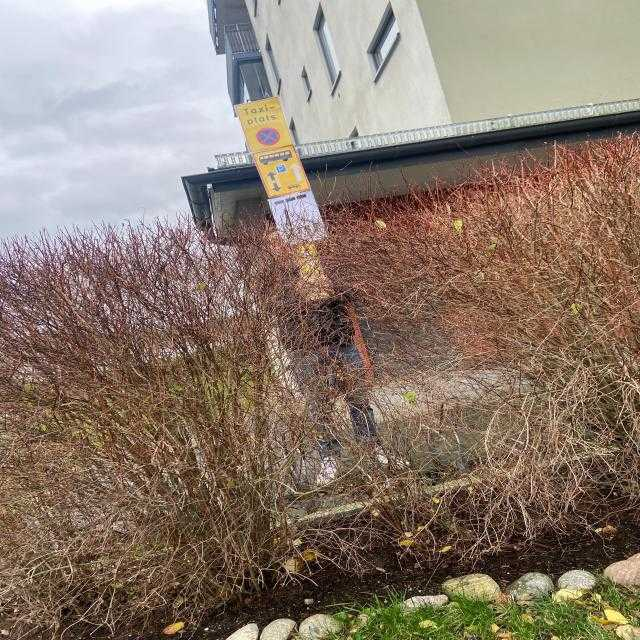lastplats: (235, 96, 291, 156)
